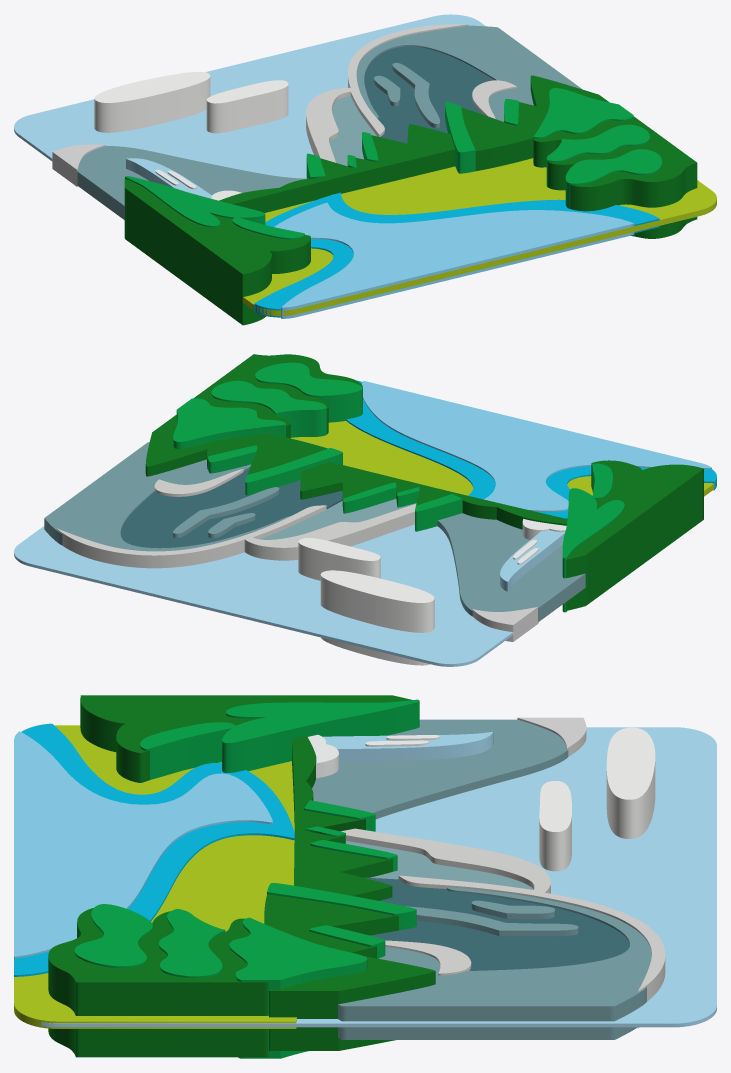
File: emoji_u1f3de.glb
The picture shows the model from 3 angles, top to bottom: view 1: azimuth 30°, elevation 25°; view 2: azimuth 150°, elevation 25°; view 3: azimuth 270°, elevation 25°; orthographic projection. The views are drawn at different scales.
Parts seen in each view (by area): view 1: emoji_u1f3de; view 2: emoji_u1f3de; view 3: emoji_u1f3de.
Boxes of the visible parts, x1,y1,x2,y2 form: emoji_u1f3de: (14, 14, 716, 325); emoji_u1f3de: (14, 354, 716, 666); emoji_u1f3de: (14, 695, 716, 1058).
Size of the model in its own units: 0.034 by 0.0044 by 0.034.
